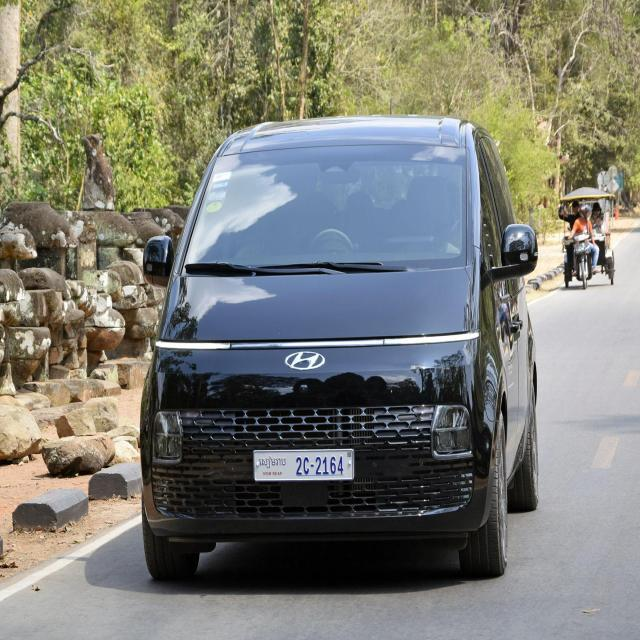Siem_Reap: (258, 453, 288, 468)
